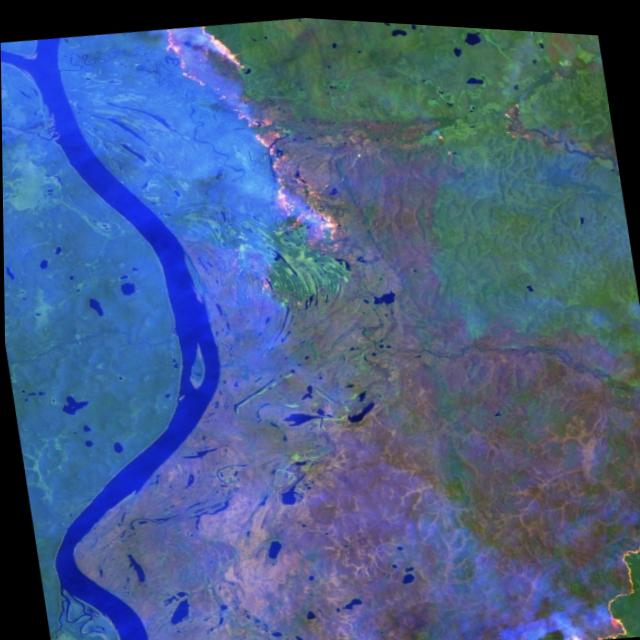fire: (158, 7, 345, 260), (530, 468, 640, 640)
